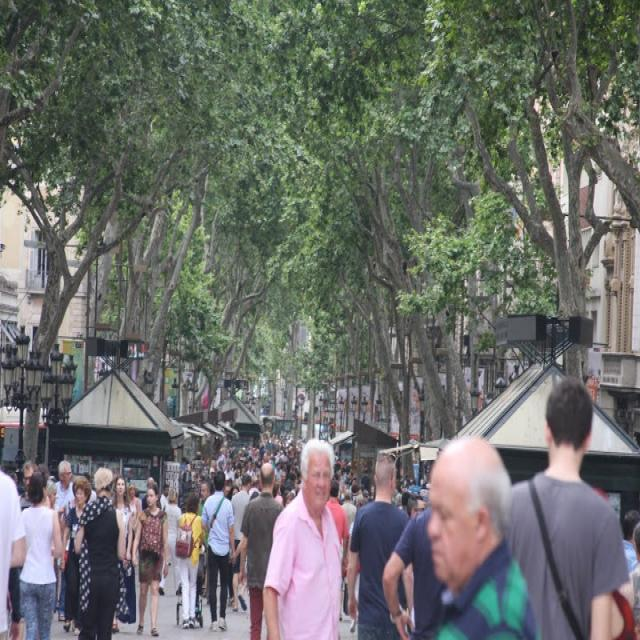body: (501, 377, 631, 640), (423, 433, 543, 640), (262, 437, 344, 640), (346, 450, 417, 640), (172, 432, 337, 508), (73, 461, 127, 639), (381, 501, 446, 639), (238, 461, 286, 640), (17, 470, 65, 640), (334, 438, 429, 518), (131, 482, 169, 638), (202, 470, 236, 630), (61, 474, 92, 634), (109, 473, 136, 635), (0, 432, 21, 638), (174, 491, 204, 628), (20, 457, 97, 507), (324, 479, 350, 621), (345, 496, 370, 635), (230, 471, 253, 613), (157, 487, 186, 596), (619, 506, 639, 638), (195, 473, 212, 608), (127, 473, 158, 512), (160, 483, 173, 568), (233, 532, 247, 560)
